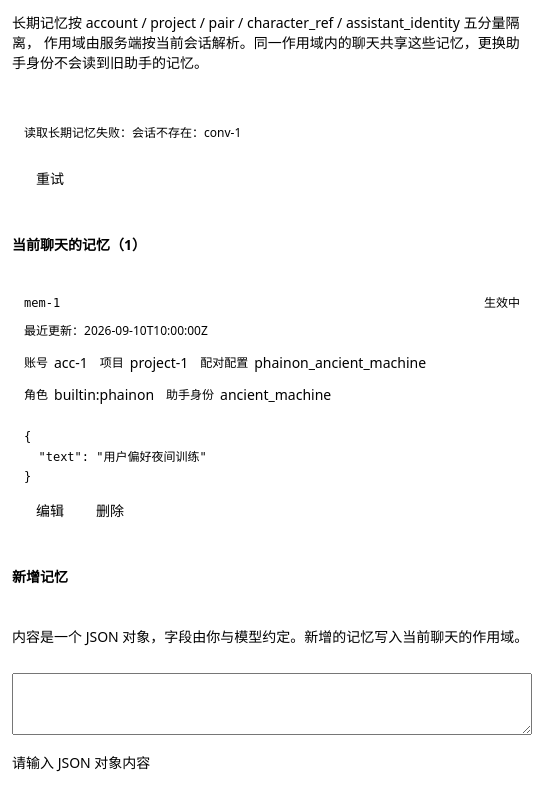
Test: MemoryPanel 长期记忆增删改 › 读取失败时原样显示后端错误，重试后恢复列表
Expected: the element with test id "memory-scope-mem-1" is shown, x1=24 y1=353 x2=426 y2=404
Expected: the text with test id "memory-list-error" shows "会话不存在：conv-1", x1=132 y1=124 x2=241 y2=141
Click the button "重试" at (50, 179), box x1=24 y1=163 x2=76 y2=195
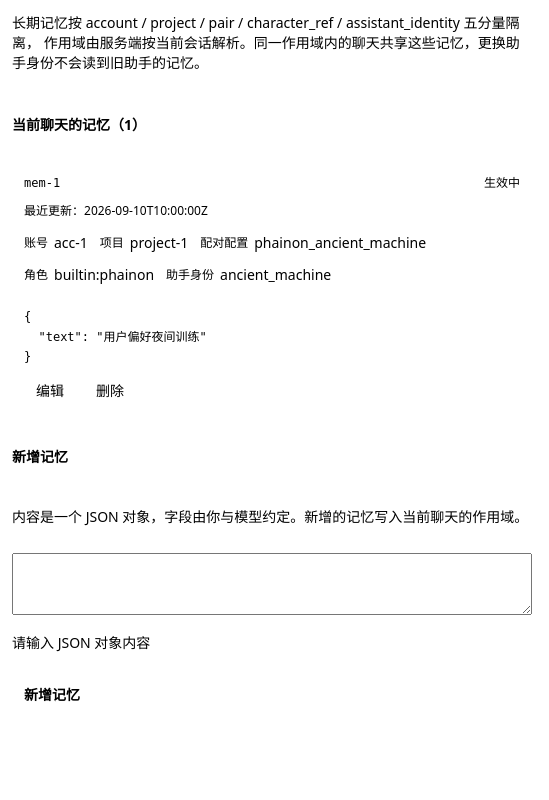
Expected: the element with test id "memory-scope-mem-1" is shown, x1=24 y1=233 x2=426 y2=284
Result: the text with test id "memory-list-error" is gone
